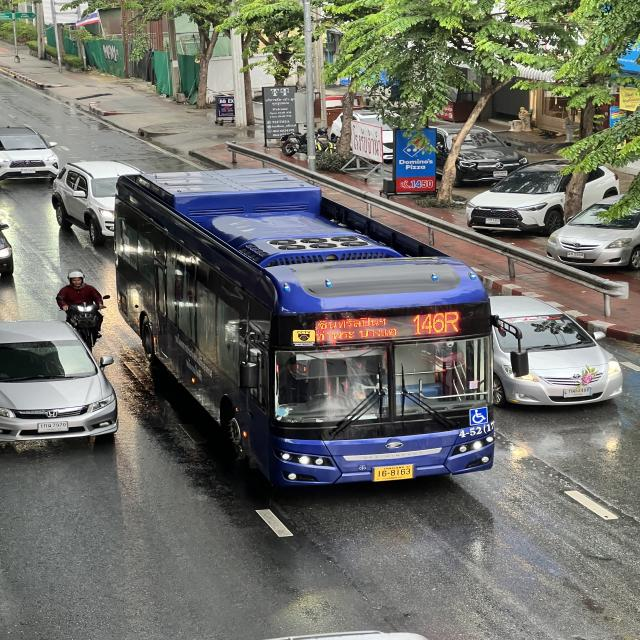Bus Line Number: (409, 309, 463, 336)
Bus Side Number: (459, 418, 495, 442)
Destination Sign: (314, 310, 399, 344)
TSB-Bus: (112, 171, 496, 490)
